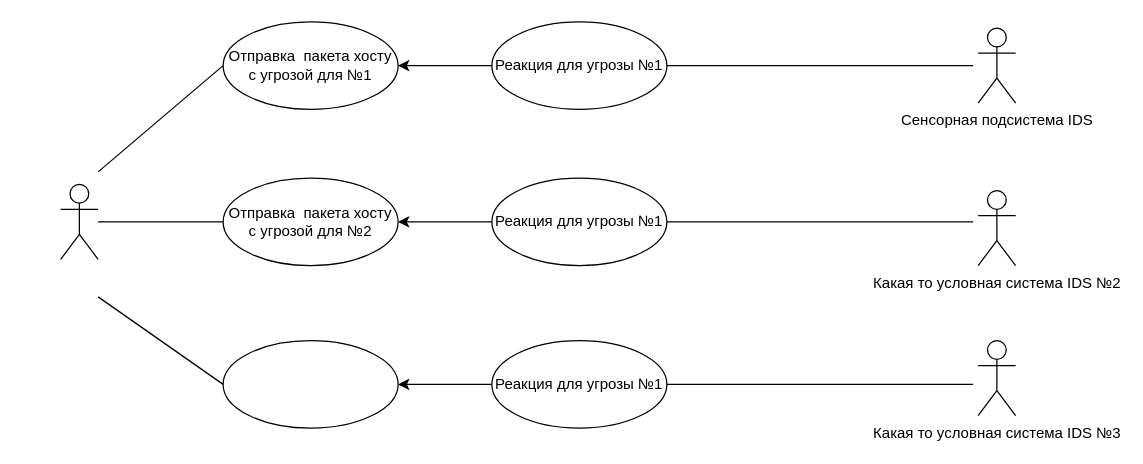
This 1143x464 diagram has some shape labels left out. Each missing label, with the box of its shape:
Злоумышленник: (59, 183, 98, 259)
Отправка пакета хосту с угрозой для №3: (222, 339, 398, 428)
